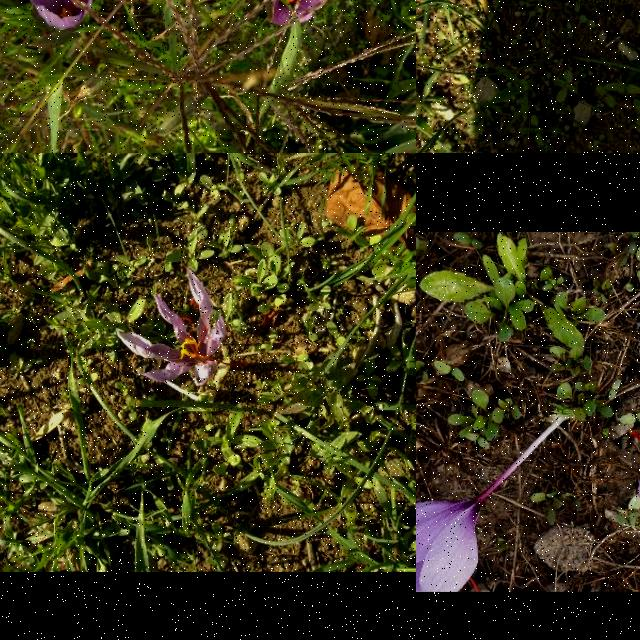flower: (115, 270, 227, 382), (416, 500, 478, 592), (24, 0, 96, 30), (270, 0, 333, 28)
